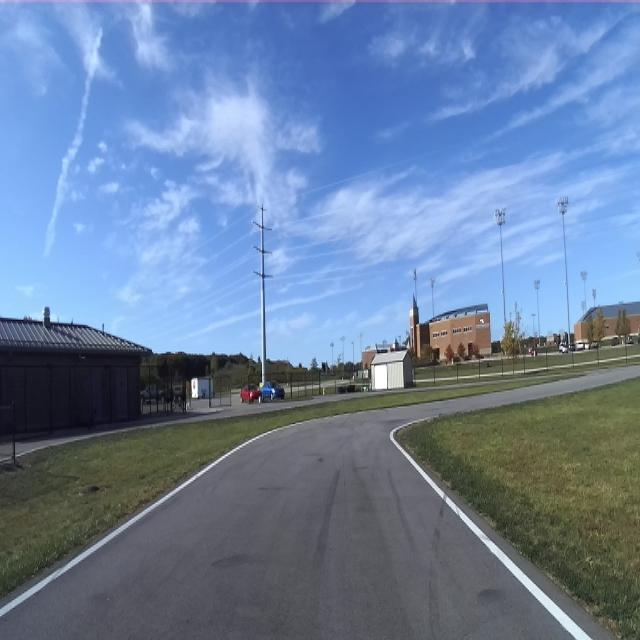white-line: (0, 413, 346, 617), (390, 420, 592, 639)
